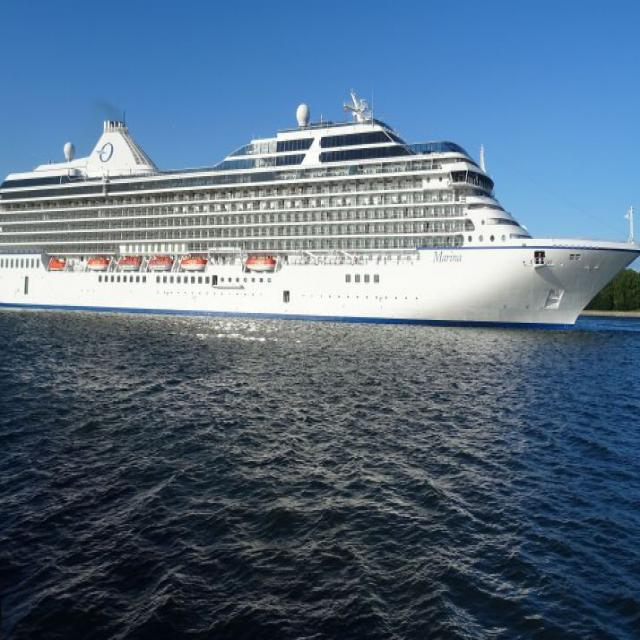cruises: (1, 88, 640, 339)
